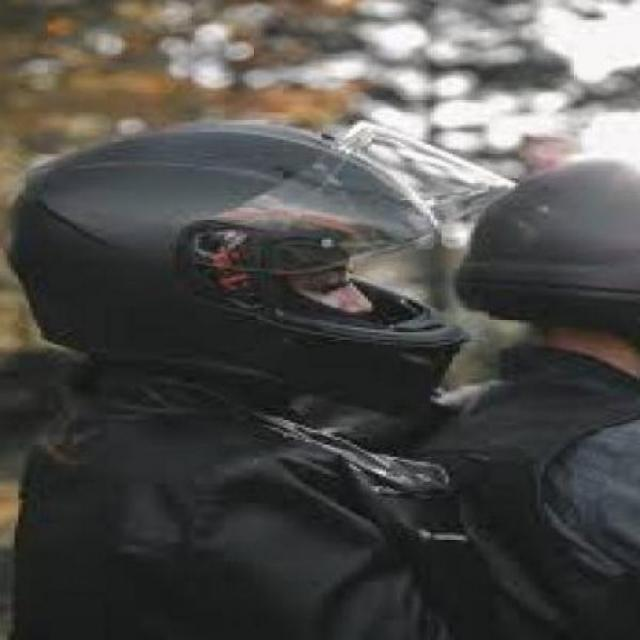Helmet: (7, 120, 448, 382), (455, 142, 640, 322)
